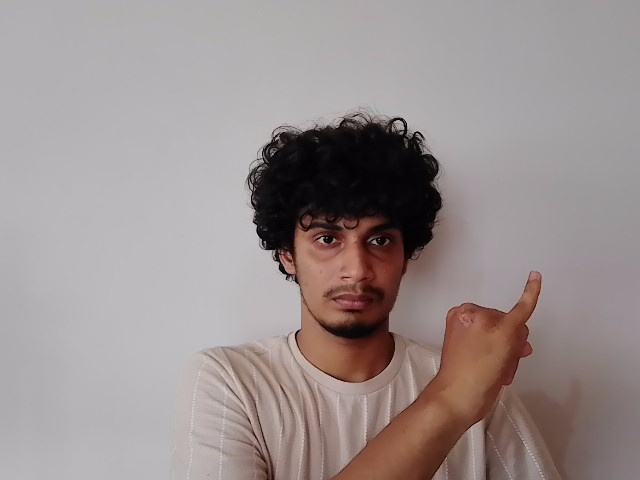bad: (439, 268, 548, 416)
